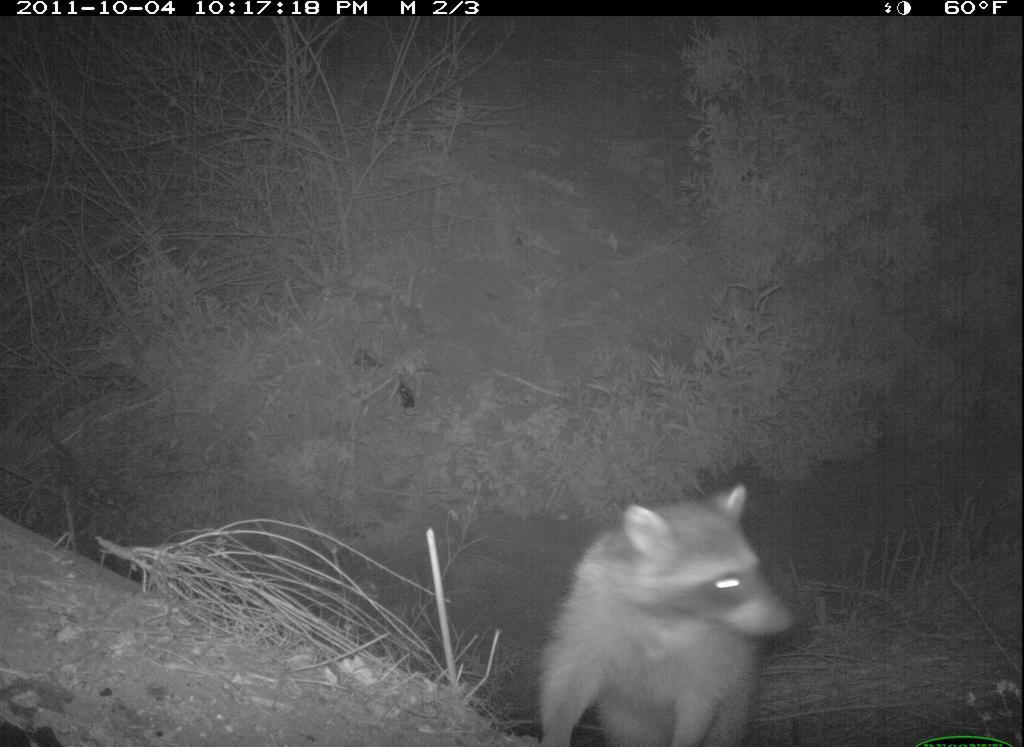raccoon: (519, 478, 793, 737)
